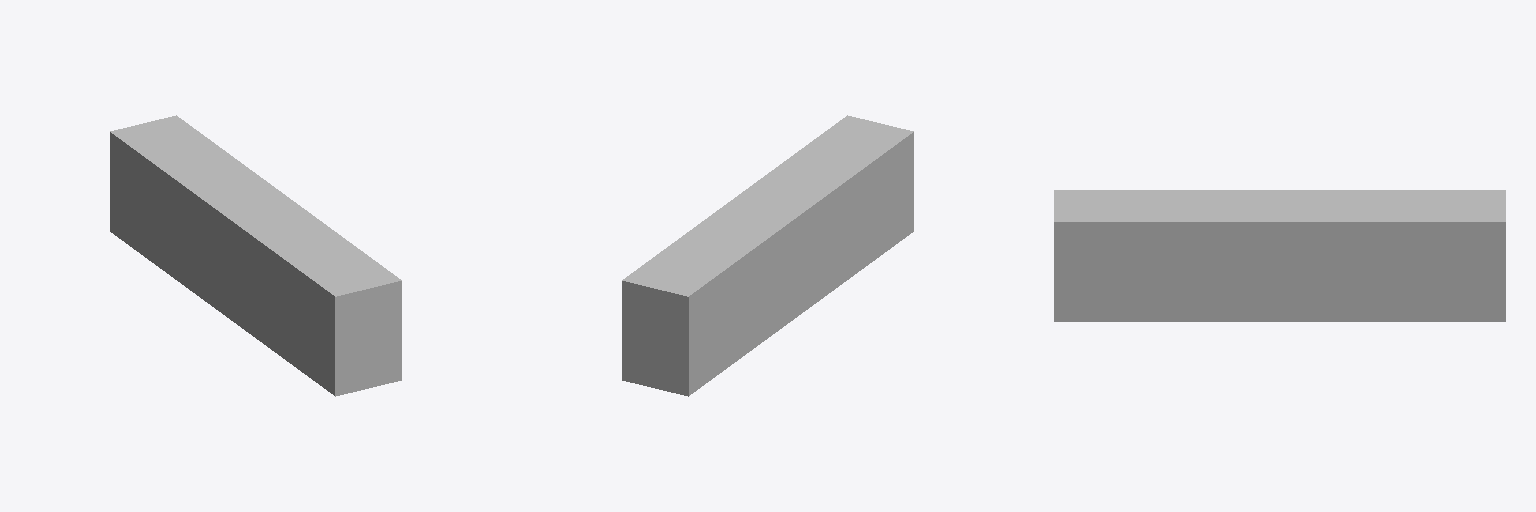
File: SciFi_6trk_obj.obj
The picture shows the model from 3 angles: view 1: azimuth 30°, elevation 25°; view 2: azimuth 150°, elevation 25°; view 3: azimuth 270°, elevation 25°; orthographic projection.
Visible parts, largest first — view 1: grp1; view 2: grp1; view 3: grp1.
Boxes of the visible parts, x1,y1,x2,y2 form: grp1: [110, 115, 401, 396]; grp1: [622, 115, 913, 396]; grp1: [1054, 190, 1505, 321].
Size of the model in its own units: 70000 by 100000 by 410000.